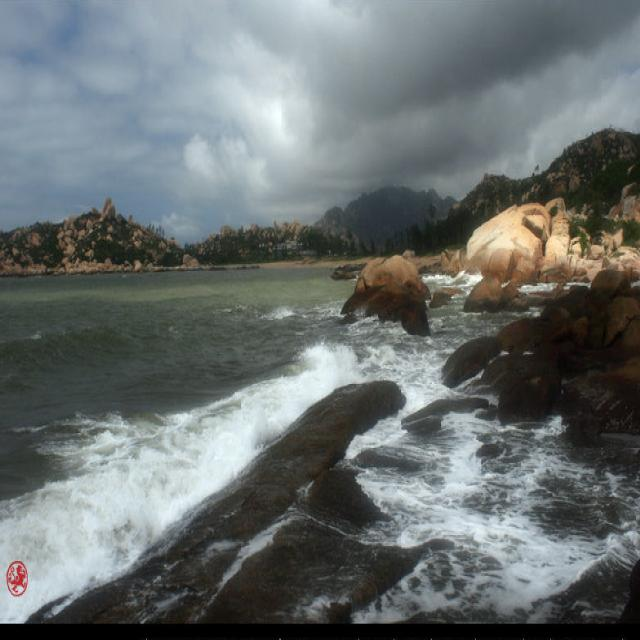reef: (335, 256, 636, 453)
